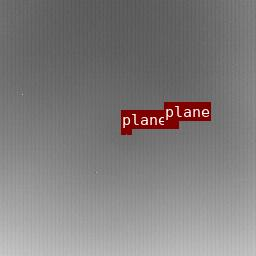plane: (164, 121, 178, 128), (121, 129, 131, 132)
